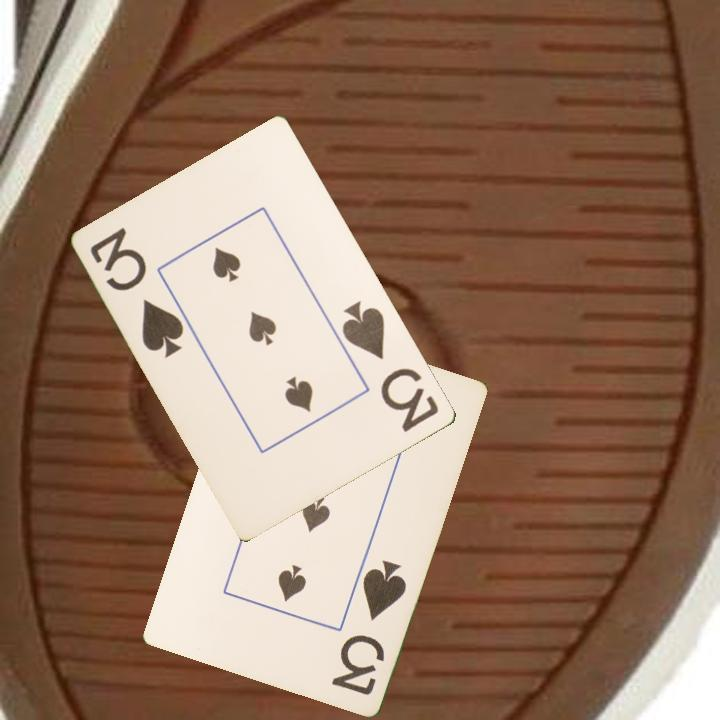3s: (338, 297, 443, 435), (87, 224, 188, 361), (328, 555, 409, 698)
